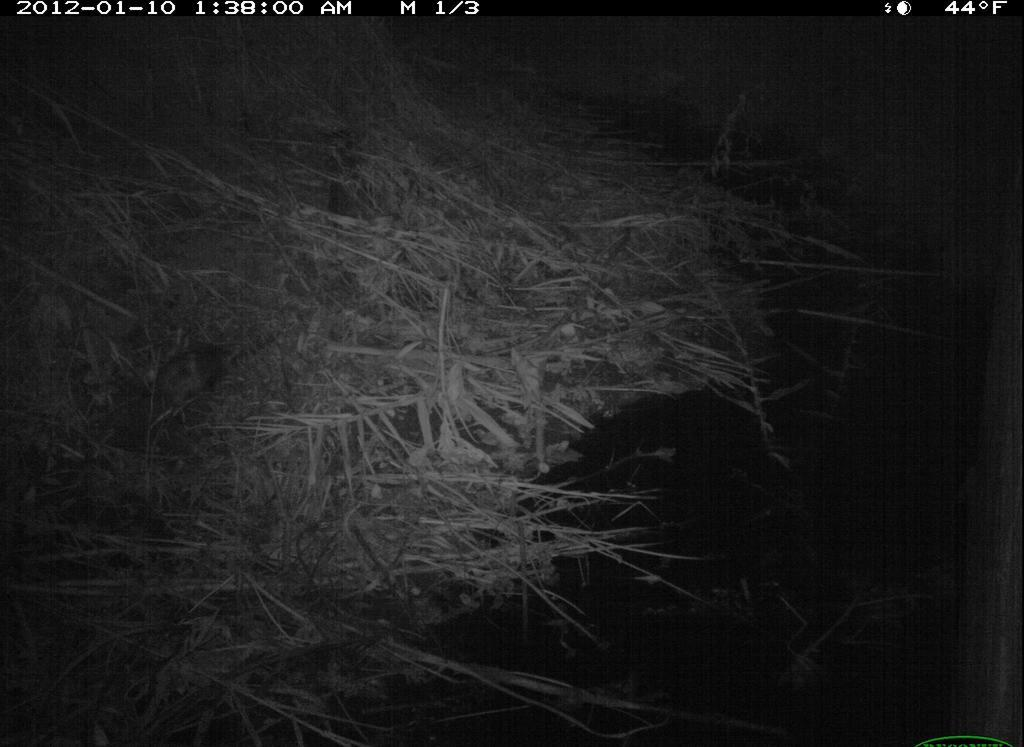opossum: (150, 333, 240, 420)
